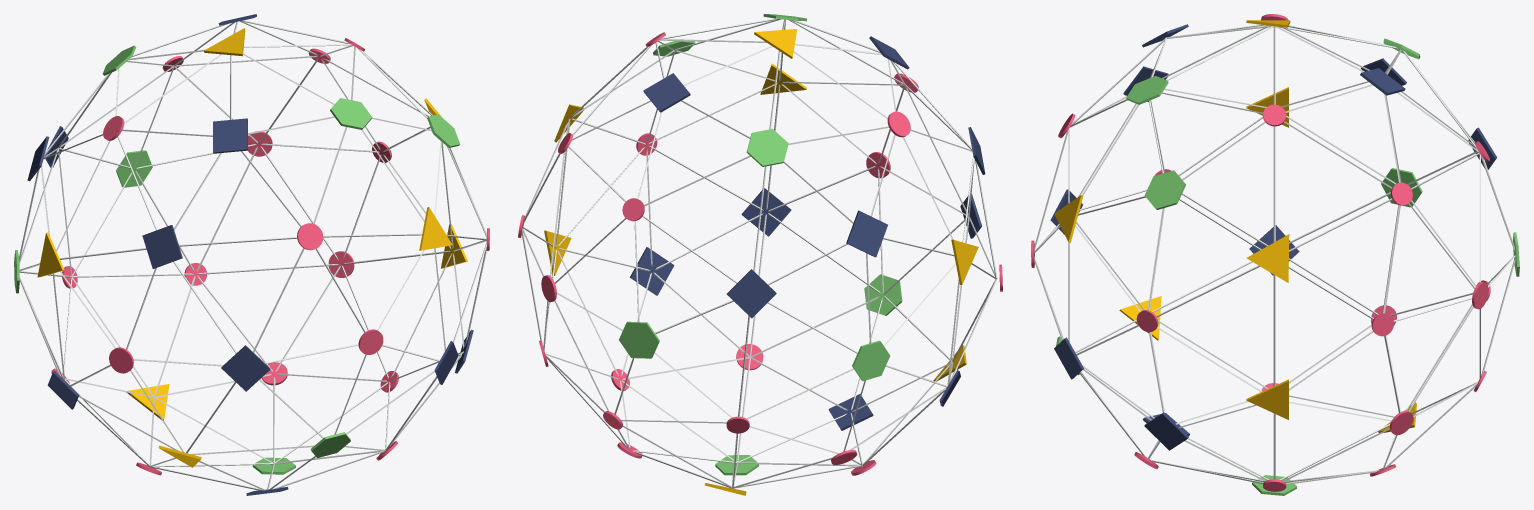
The model's file is helix-animation-test4.glb.
The picture shows the model from 3 angles, left to right: view 1: azimuth 30°, elevation 25°; view 2: azimuth 150°, elevation 25°; view 3: azimuth 270°, elevation 25°; orthographic projection. The views are drawn at different scales.
Visible parts, largest first — view 1: wireisosphereV4.001; view 2: wireisosphereV4.001; view 3: wireisosphereV4.001.
Boxes of the visible parts, bbox=[...] form: wireisosphereV4.001: bbox=[14, 14, 489, 495]; wireisosphereV4.001: bbox=[518, 14, 1002, 495]; wireisosphereV4.001: bbox=[1031, 14, 1519, 495].
Size of the model in its own units: 3.08 by 3.14 by 3.08.
